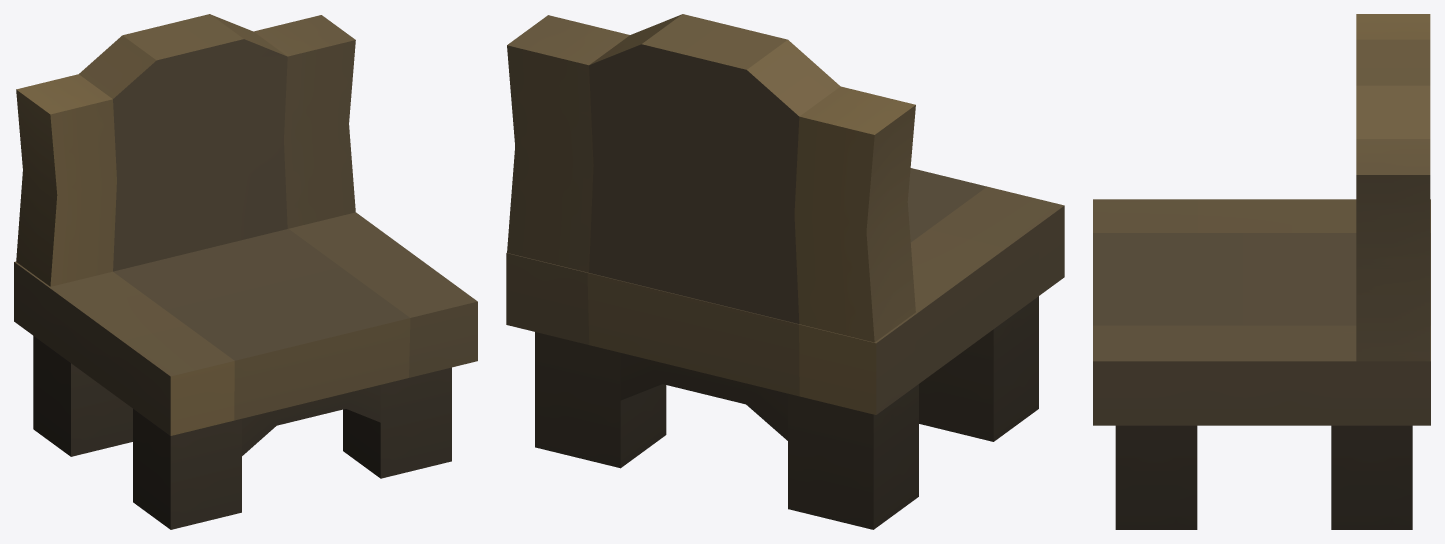
The model's file is chair.fbx.
3 views of the same model, side by side, from view 1: azimuth 30°, elevation 25°; view 2: azimuth 150°, elevation 25°; view 3: azimuth 270°, elevation 25° (orthographic). The views are drawn at different scales.
Parts seen in each view (by area): view 1: chair; view 2: chair; view 3: chair.
Part boxes in pixels (x1,y1,x2,y2): chair: (14,14,477,529); chair: (506,14,1064,529); chair: (1093,14,1430,529).
Bounding box in the file's own units: 70 × 79.32 × 61.74.
